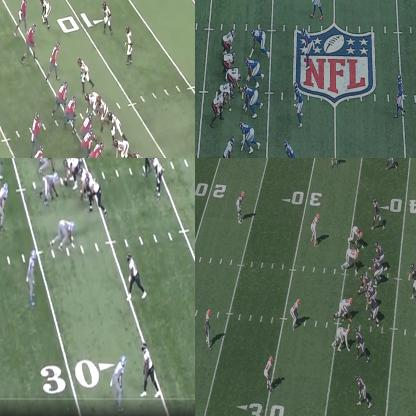CENTER: (63, 158, 81, 191), (80, 112, 94, 132), (231, 67, 242, 91), (362, 274, 373, 292)
DB: (114, 354, 129, 403), (29, 249, 38, 305), (396, 73, 405, 115), (265, 356, 275, 389), (237, 192, 246, 224), (125, 26, 132, 65), (104, 1, 113, 29), (41, 0, 50, 25), (283, 140, 295, 157), (313, 0, 323, 19), (207, 310, 212, 348), (331, 158, 340, 167)
LB: (300, 27, 312, 64), (0, 184, 10, 228), (296, 84, 304, 126), (289, 298, 300, 328), (110, 112, 121, 138), (100, 96, 110, 121), (312, 215, 320, 244), (0, 158, 6, 179)
QB: (31, 116, 39, 149), (409, 261, 415, 304), (143, 158, 154, 174)
SKILL: (141, 341, 158, 396), (127, 255, 147, 299), (152, 158, 164, 199), (358, 372, 371, 406), (24, 23, 36, 58), (47, 41, 59, 75), (16, 0, 28, 30), (373, 196, 384, 228), (356, 328, 367, 360), (221, 137, 236, 157), (32, 146, 44, 157), (387, 158, 398, 170)
